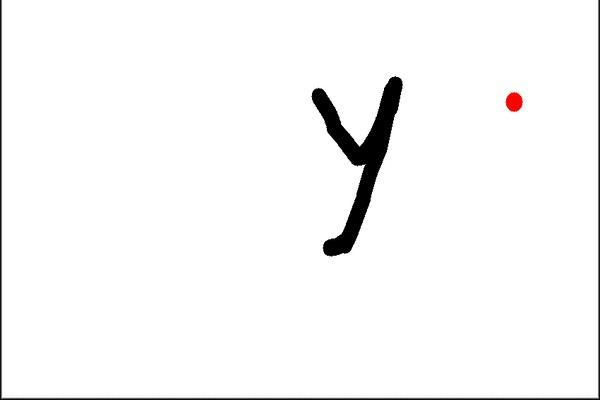Y: (300, 69, 412, 265)
